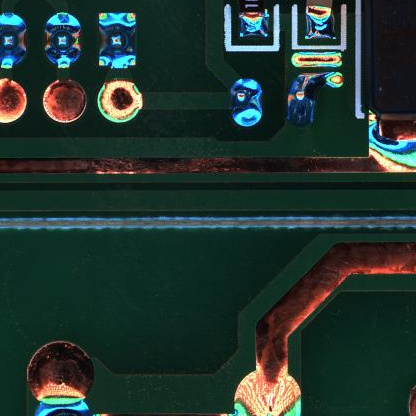spot: (44, 10, 82, 69), (99, 11, 137, 69), (227, 77, 265, 127), (1, 8, 27, 71)
